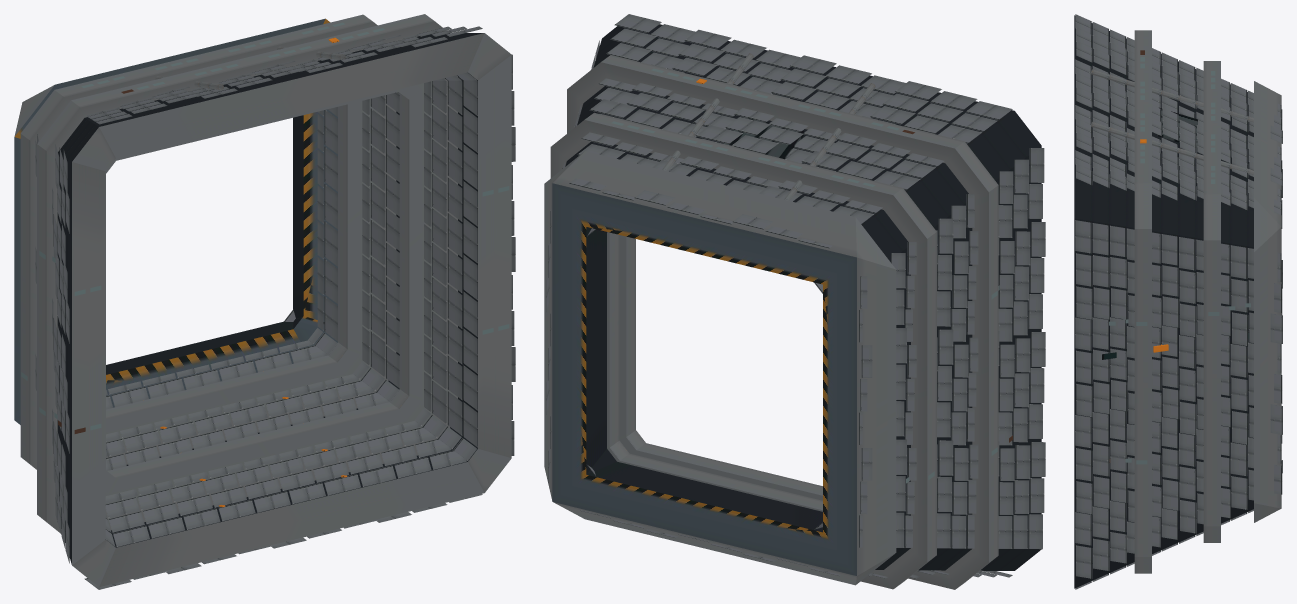
Rendered from kit_mouth.glb.
The picture shows the model from 3 angles, left to right: view 1: azimuth 30°, elevation 25°; view 2: azimuth 150°, elevation 25°; view 3: azimuth 270°, elevation 25°; orthographic projection. The views are drawn at different scales.
Parts seen in each view (by area): view 1: lod0; view 2: lod0; view 3: lod0.
Part boxes in pixels (box(x1,y1,x2,y2)): lod0: box(14, 14, 515, 589); lod0: box(544, 14, 1045, 589); lod0: box(1074, 14, 1282, 589).
Size of what is drawn, in the model's own units: 133 by 133 by 60.41.
1 material, 1 textured.
